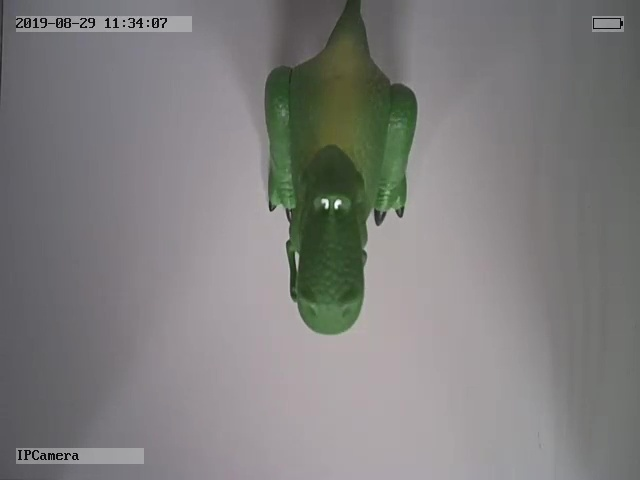rex: (262, 1, 420, 338)
